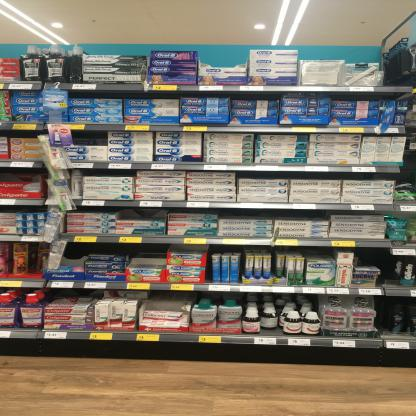Void: (240, 172, 394, 181), (198, 51, 242, 67), (134, 245, 161, 268), (83, 245, 125, 258), (77, 130, 103, 146), (377, 301, 390, 333), (360, 253, 385, 266), (88, 170, 134, 177)
